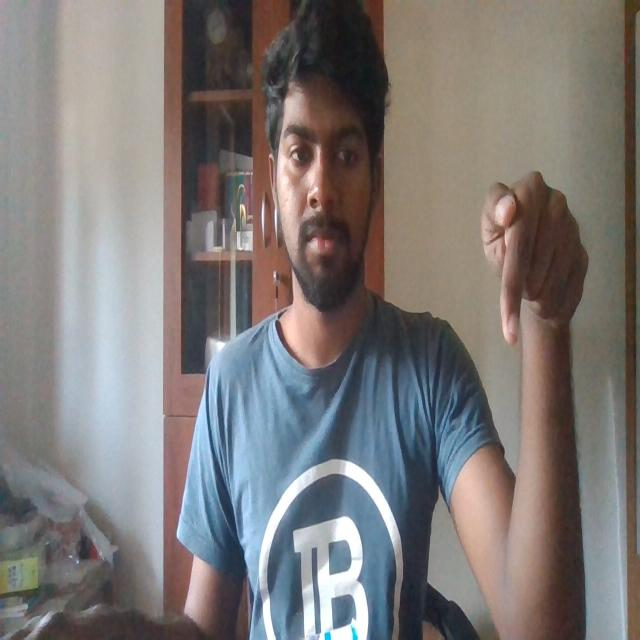Yes: (470, 154, 594, 393)
